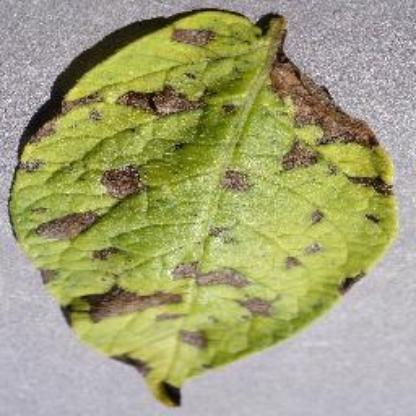Early-Blight: (8, 7, 398, 406)
